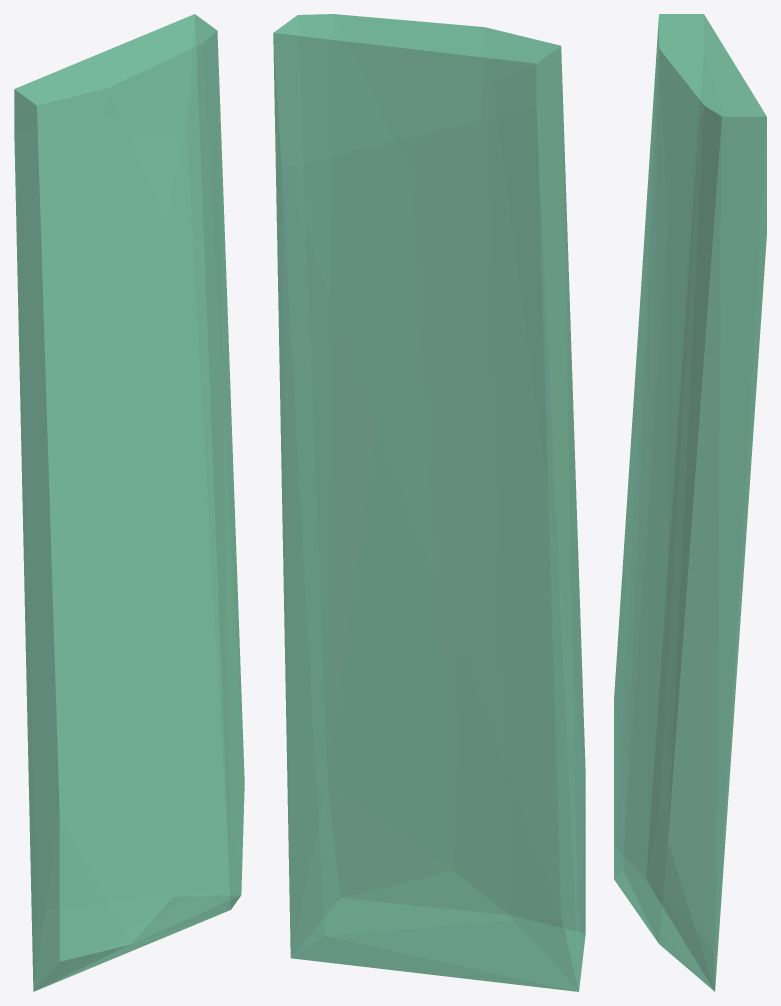
The picture shows the model from 3 angles, left to right: view 1: azimuth 30°, elevation 25°; view 2: azimuth 150°, elevation 25°; view 3: azimuth 270°, elevation 25°; orthographic projection. The views are drawn at different scales.
Visible parts, largest first — view 1: Shape_IndexedFaceSet.032_Shape_IndexedFaceSet.3689; view 2: Shape_IndexedFaceSet.032_Shape_IndexedFaceSet.3689; view 3: Shape_IndexedFaceSet.032_Shape_IndexedFaceSet.3689.
Part boxes in pixels (x1,y1,x2,y2): Shape_IndexedFaceSet.032_Shape_IndexedFaceSet.3689: (14,14,244,991); Shape_IndexedFaceSet.032_Shape_IndexedFaceSet.3689: (273,14,585,991); Shape_IndexedFaceSet.032_Shape_IndexedFaceSet.3689: (614,14,766,991).
Bounding box in the file's own units: 0.0827 × 0.2991 × 0.0476.
